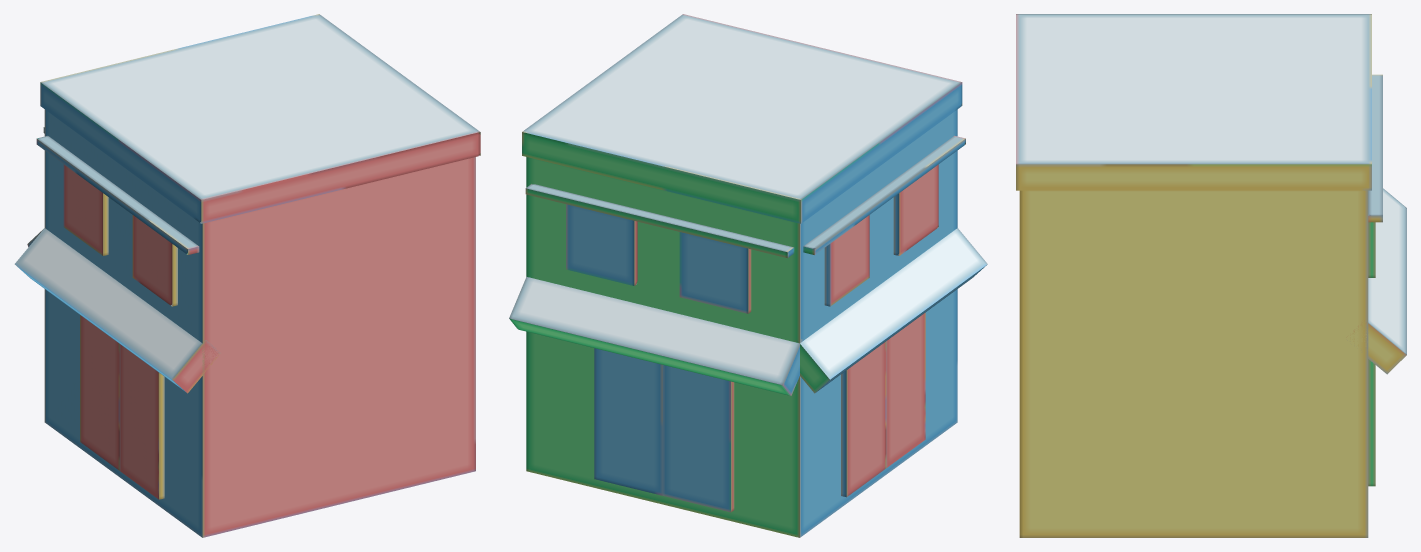
The model's file is House04.fbx.
3 views of the same model, side by side, from view 1: azimuth 30°, elevation 25°; view 2: azimuth 150°, elevation 25°; view 3: azimuth 270°, elevation 25° (orthographic). The views are drawn at different scales.
Visible parts, largest first — view 1: cuboid, cuboid_13, cuboid_1, cuboid_4, cuboid_2, cuboid_10, cuboid_9, cuboid_12; view 2: cuboid, cuboid_13, cuboid_3, cuboid_1, cuboid_5, cuboid_6, cuboid_2, cuboid_4, cuboid_7, cuboid_8, cuboid_11, cuboid_9 (+2 smaller); view 3: cuboid, cuboid_13, cuboid_3, cuboid_11, cuboid_6.
Boxes of the visible parts, x1,y1,x2,y2 form: cuboid: (44,109,475,537); cuboid_13: (40,14,480,223); cuboid_1: (14,228,220,393); cuboid_4: (119,344,164,499); cuboid_2: (80,315,119,470); cuboid_10: (132,215,177,306); cuboid_9: (63,164,108,255); cuboid_12: (36,135,199,254); cuboid: (526,109,957,537); cuboid_13: (522,14,962,223); cuboid_3: (509,277,803,395); cuboid_1: (794,228,987,393); cuboid_5: (662,365,734,512); cuboid_6: (594,348,662,495); cuboid_2: (841,341,886,497); cuboid_4: (886,312,925,467); cuboid_7: (679,232,751,313); cuboid_8: (566,204,637,285); cuboid_11: (525,184,794,257); cuboid_9: (824,215,869,306); cuboid: (1019,190,1368,537); cuboid_13: (1016,14,1371,190); cuboid_3: (1346,188,1406,374); cuboid_11: (1368,74,1382,222); cuboid_6: (1368,359,1375,486).
Size of the model in its own units: 336 by 356 by 336.
Materials: 1 (1 with a texture image).
